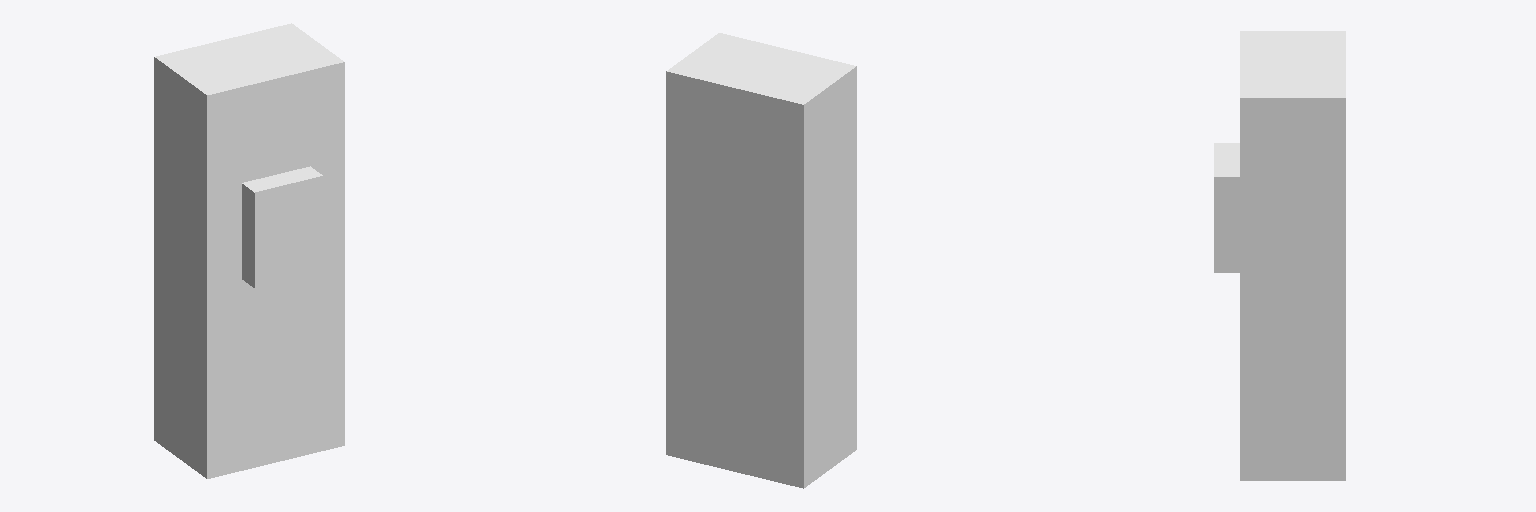
Rendered from Bomb Trigger.obj.
The picture shows the model from 3 angles: view 1: azimuth 30°, elevation 25°; view 2: azimuth 150°, elevation 25°; view 3: azimuth 270°, elevation 25°; orthographic projection.
Parts seen in each view (by area): view 1: Bomb Trigger; view 2: Bomb Trigger; view 3: Bomb Trigger.
Boxes of the visible parts, <box> form: Bomb Trigger: <box>154,23,344,478</box>; Bomb Trigger: <box>666,33,856,488</box>; Bomb Trigger: <box>1214,31,1345,480</box>.
Bounding box in the file's own units: 0.15 × 0.4 × 0.1243.